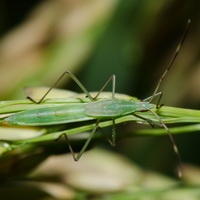insect: (0, 20, 199, 199)
